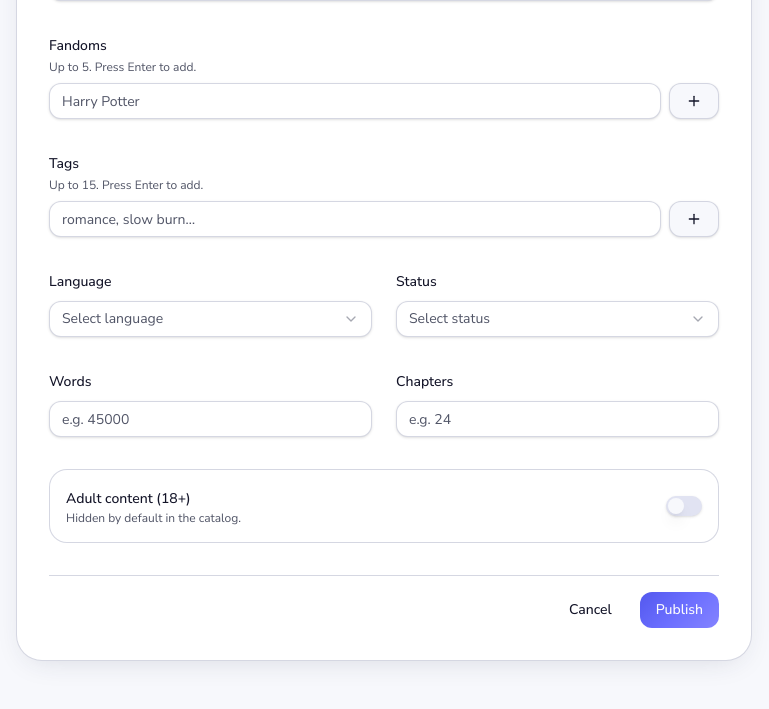
Test case: AddFicPage › shows validation errors on empty submit
The image size is (769, 709).
(page scrolled)
Click the button "Publish". click: click(679, 610)
box: [640,592,719,628]
(page scrolled)
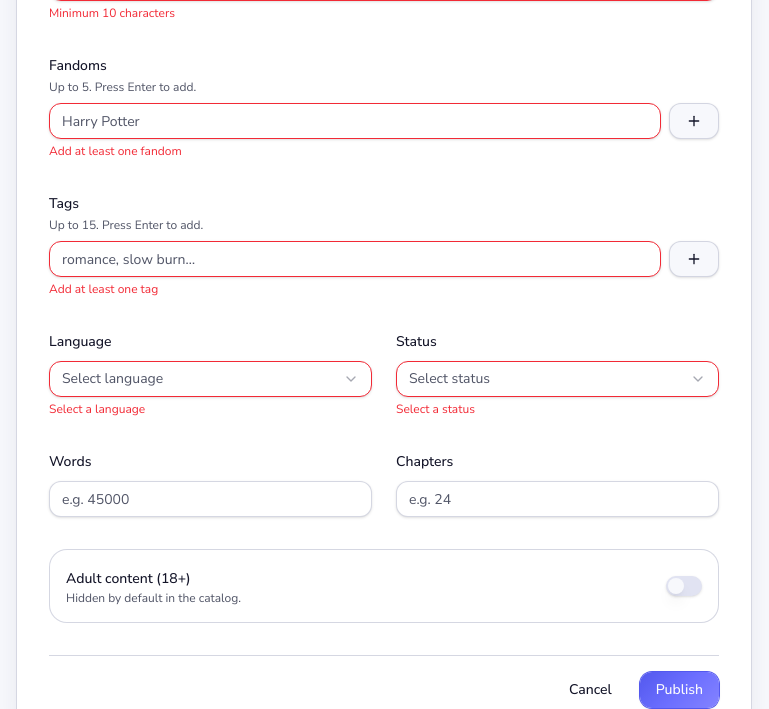
Check: the text "Add at least one tag" is shown, box [49,281,158,297]
